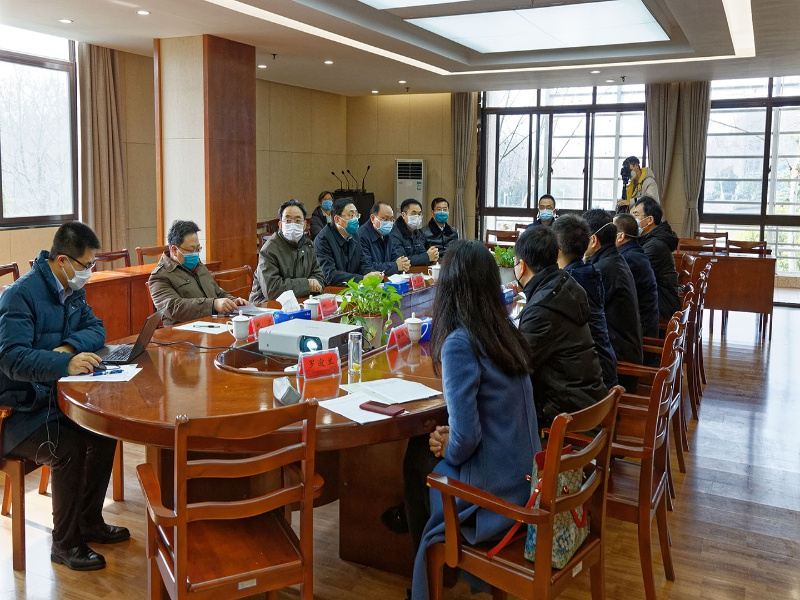ManaoArotava: (48, 219, 100, 295), (157, 212, 210, 278), (398, 194, 430, 246), (277, 195, 307, 250), (332, 198, 365, 244), (530, 187, 567, 227), (426, 191, 457, 234)
